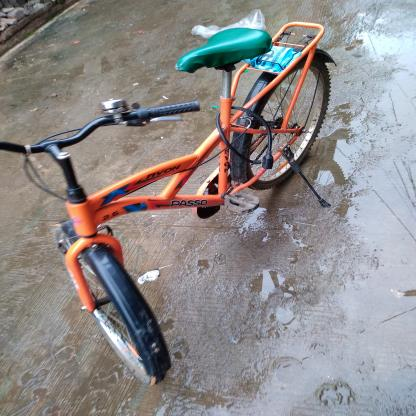bicycle: (0, 13, 359, 400)
